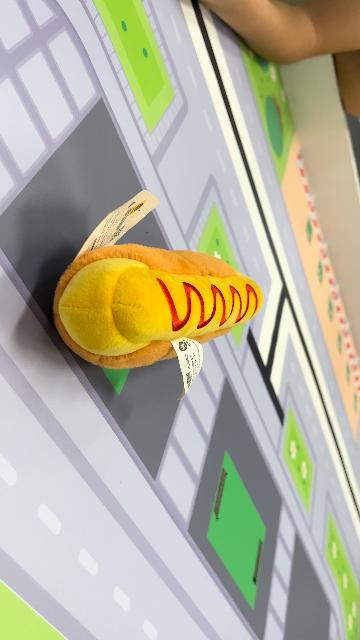hotdog: (52, 242, 266, 372)
